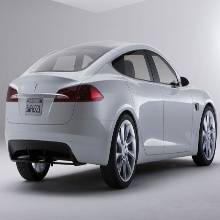no damage: (4, 43, 218, 190)
